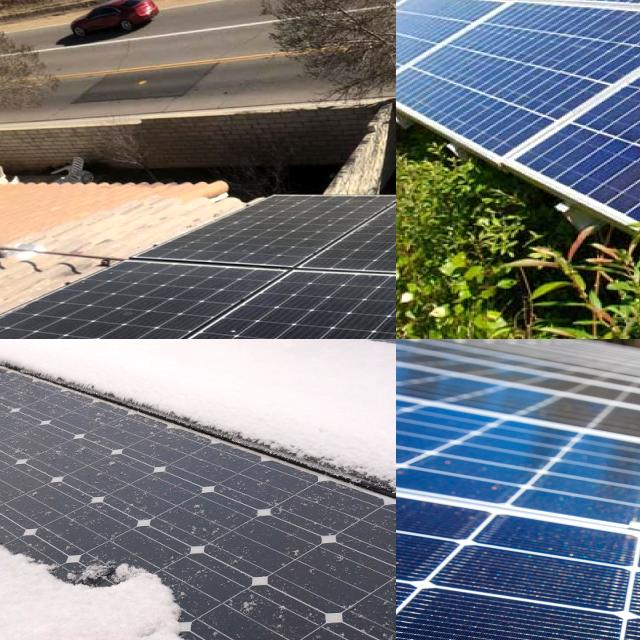crack: (396, 339, 640, 640), (443, 0, 640, 339), (396, 0, 640, 199), (454, 0, 640, 39)
panel: (0, 388, 95, 583), (126, 352, 257, 473), (264, 419, 396, 531), (0, 339, 112, 424), (0, 525, 96, 615), (100, 554, 196, 640), (0, 421, 50, 552), (195, 339, 275, 405), (81, 339, 176, 380), (289, 339, 354, 395), (0, 365, 32, 445), (0, 339, 64, 378), (125, 339, 203, 368), (0, 339, 64, 374), (266, 339, 341, 368), (362, 339, 396, 402), (0, 339, 54, 374), (355, 339, 396, 372), (0, 339, 30, 377), (208, 339, 252, 363), (0, 339, 31, 362), (0, 339, 23, 370), (0, 339, 47, 354), (73, 339, 127, 350), (0, 339, 39, 352)
